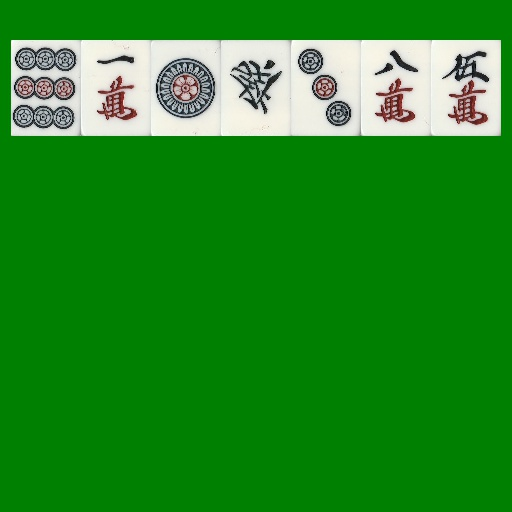1m: (81, 40, 151, 136)
1p: (151, 40, 221, 136)
3p: (291, 40, 361, 136)
5m: (431, 40, 501, 136)
8m: (361, 40, 431, 136)
9p: (11, 40, 81, 136)
hatsu: (221, 40, 291, 136)
